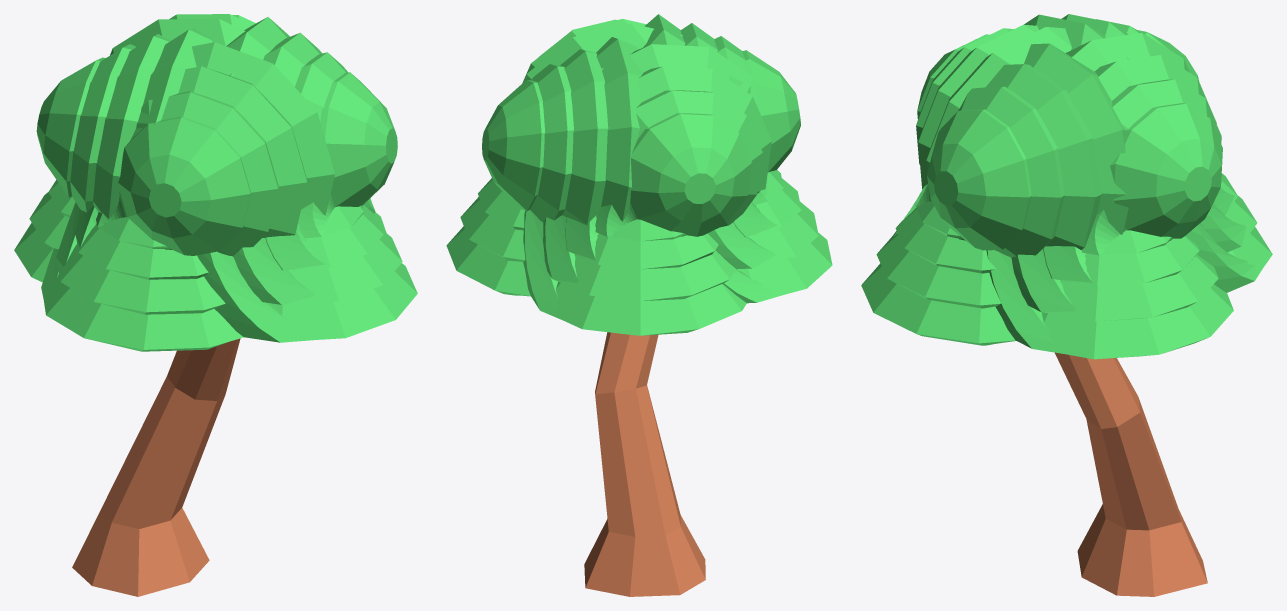
The model's file is árbol 6.fbx.
3 renders of one model, left to right at view 1: azimuth 30°, elevation 25°; view 2: azimuth 150°, elevation 25°; view 3: azimuth 270°, elevation 25°, orthographic. The views are drawn at different scales.
Visible parts, largest first — view 1: Circle.003; view 2: Circle.003; view 3: Circle.003.
Part boxes in pixels (<box>): Circle.003: <box>14,14,417,596</box>; Circle.003: <box>446,14,832,596</box>; Circle.003: <box>861,14,1272,596</box>.
Size of the model in its own units: 321 by 480 by 323.
